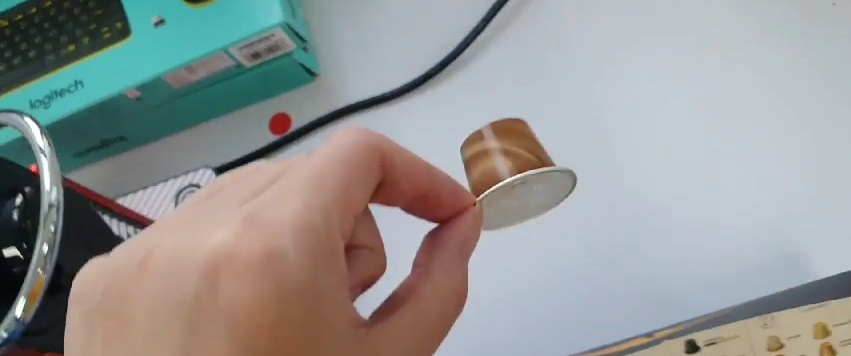capsule_12: (455, 114, 579, 229)
